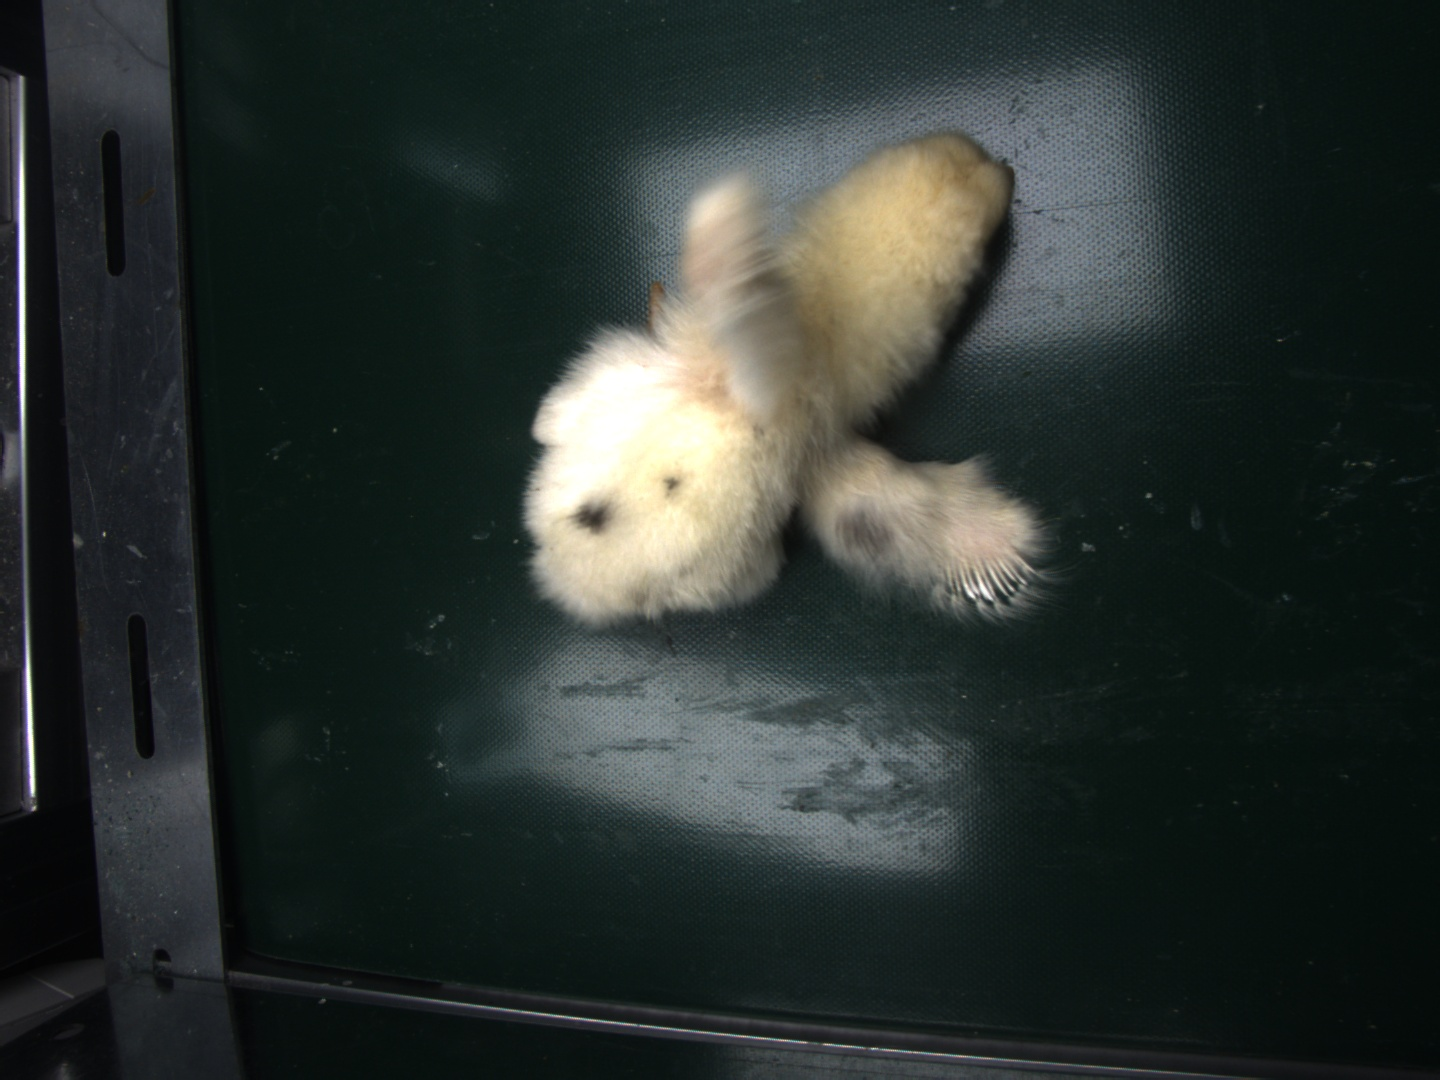male: (945, 548, 1037, 600)
